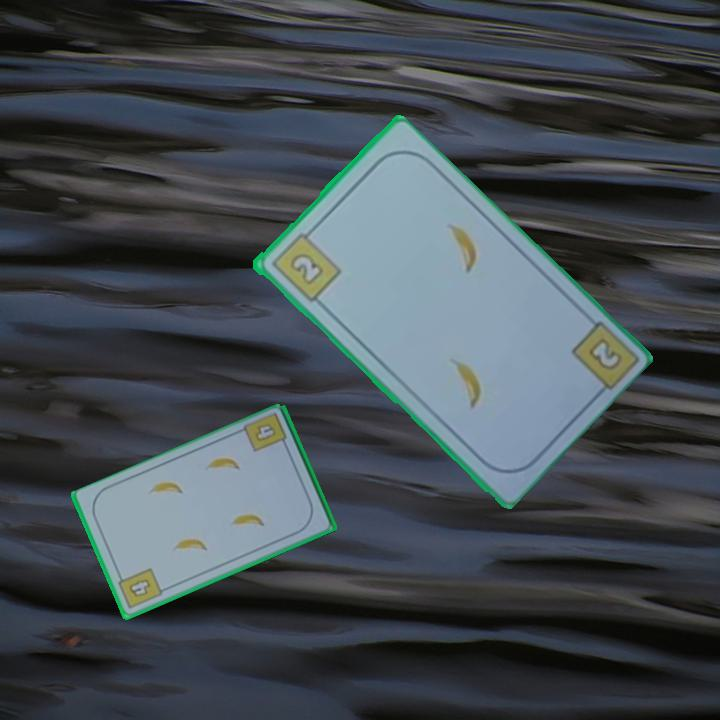2b: (267, 224, 344, 305), (583, 334, 625, 374)
4b: (114, 564, 165, 612), (253, 422, 276, 443)
